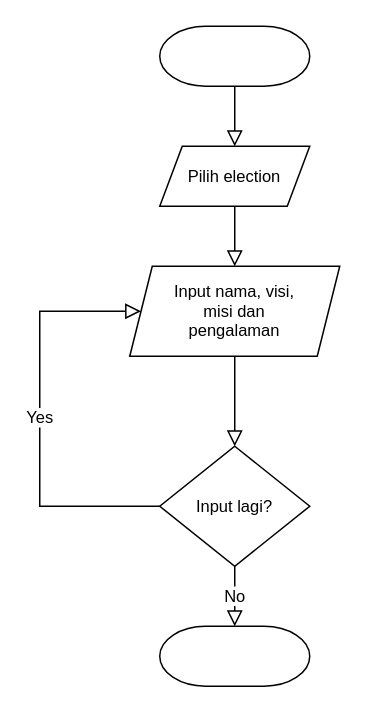
Some shapes in this 366 by 713 pixel diagram are drawn without their labels. Each missing label, with the centre of its shape:
"End" belongs at (x=234, y=655).
"Start" belongs at (x=234, y=55).
